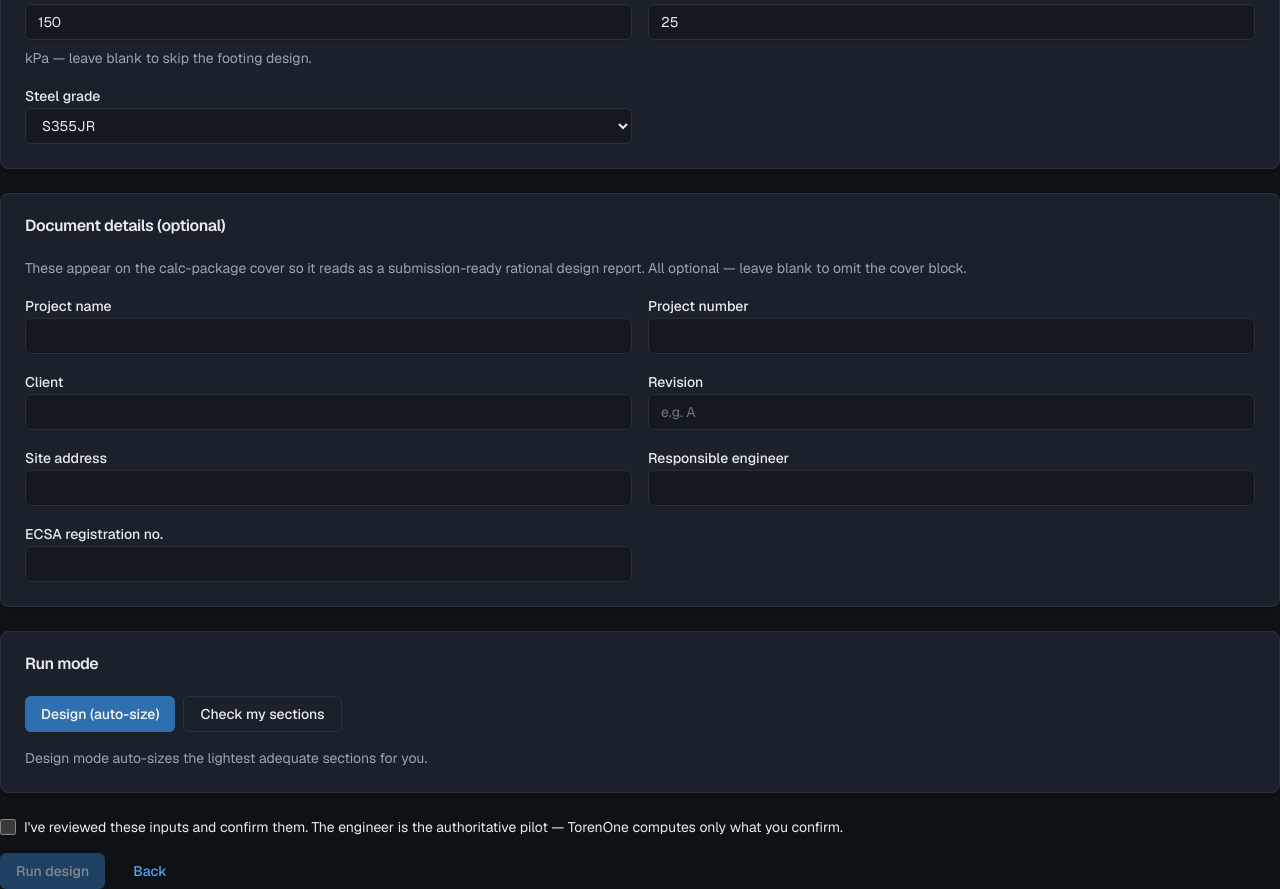
it: ReviewStep › keeps Run disabled until the engineer explicitly confirms
(page scrolled)
Expected: the button "Run design" is disabled, x1=0 y1=852 x2=105 y2=888
Click the checkbox labelled "reviewed these inputs". click: (8, 826)
box: x1=0 y1=818 x2=16 y2=834
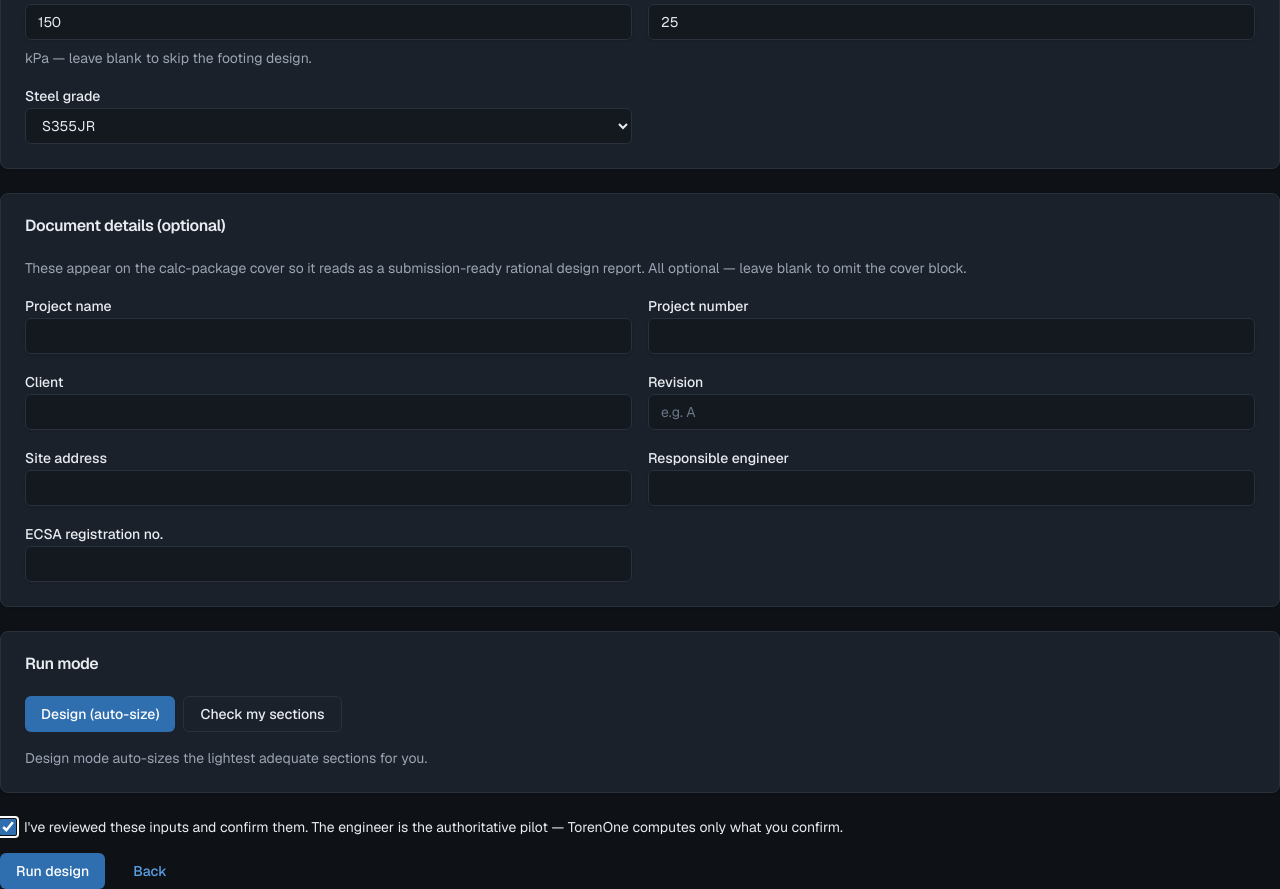
Expected: the button "Run design" is enabled, x1=0 y1=852 x2=105 y2=888
